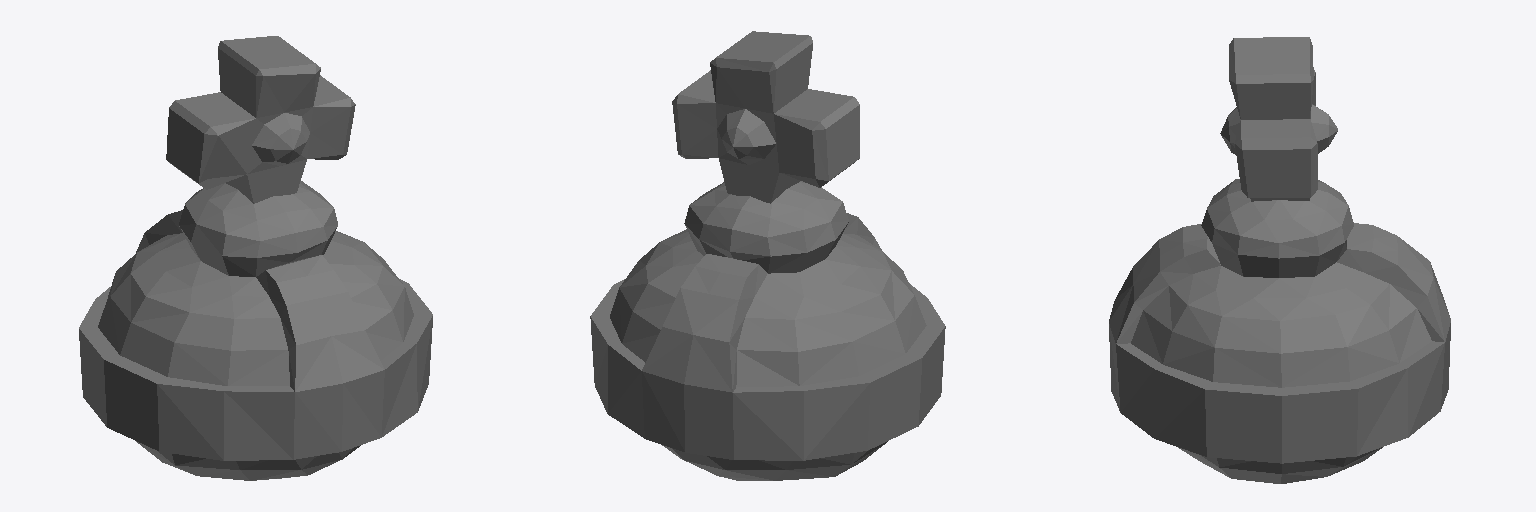
File: HolyHandGrenade.obj
The picture shows the model from 3 angles: view 1: azimuth 30°, elevation 25°; view 2: azimuth 150°, elevation 25°; view 3: azimuth 270°, elevation 25°; orthographic projection.
Parts seen in each view (by area): view 1: Inst3D_RefRep.252_Ref, Inst3D_RefRep.252; view 2: Inst3D_RefRep.252_Ref, Inst3D_RefRep.252; view 3: Inst3D_RefRep.252_Ref, Inst3D_RefRep.252.
Boxes of the visible parts, <box> form: Inst3D_RefRep.252_Ref: <box>79,36,432,480</box>; Inst3D_RefRep.252: <box>199,64,355,203</box>; Inst3D_RefRep.252_Ref: <box>590,31,945,480</box>; Inst3D_RefRep.252: <box>672,58,828,203</box>; Inst3D_RefRep.252_Ref: <box>1109,37,1450,483</box>; Inst3D_RefRep.252: <box>1220,38,1337,197</box>.
Bounding box in the file's own units: 1.52 × 1.99 × 1.47.